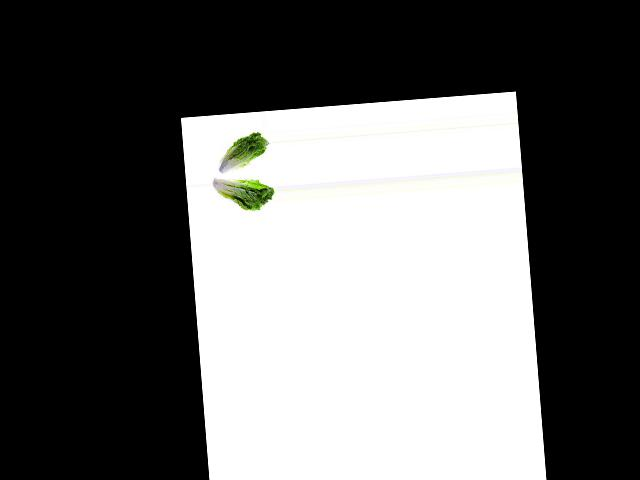lettuce: (210, 130, 270, 174)
